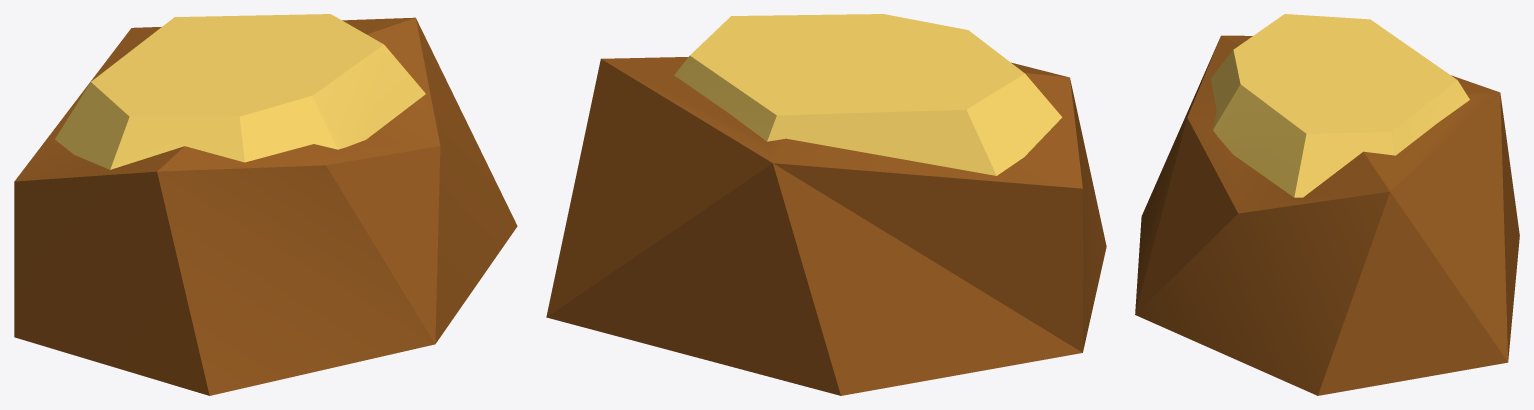
The model's file is Rock_Small_Dirt_Sand_04.fbx.
3 renders of one model, left to right at view 1: azimuth 30°, elevation 25°; view 2: azimuth 150°, elevation 25°; view 3: azimuth 270°, elevation 25°, orthographic. The views are drawn at different scales.
Visible parts, largest first — view 1: Rock_Small_Dirt_Sand_04; view 2: Rock_Small_Dirt_Sand_04; view 3: Rock_Small_Dirt_Sand_04.
Part boxes in pixels (x1=…): Rock_Small_Dirt_Sand_04: x1=14, y1=14, x2=517, y2=395; Rock_Small_Dirt_Sand_04: x1=546, y1=14, x2=1106, y2=395; Rock_Small_Dirt_Sand_04: x1=1135, y1=14, x2=1519, y2=395.
Bounding box in the file's own units: 37.47 × 20.22 × 27.96.
